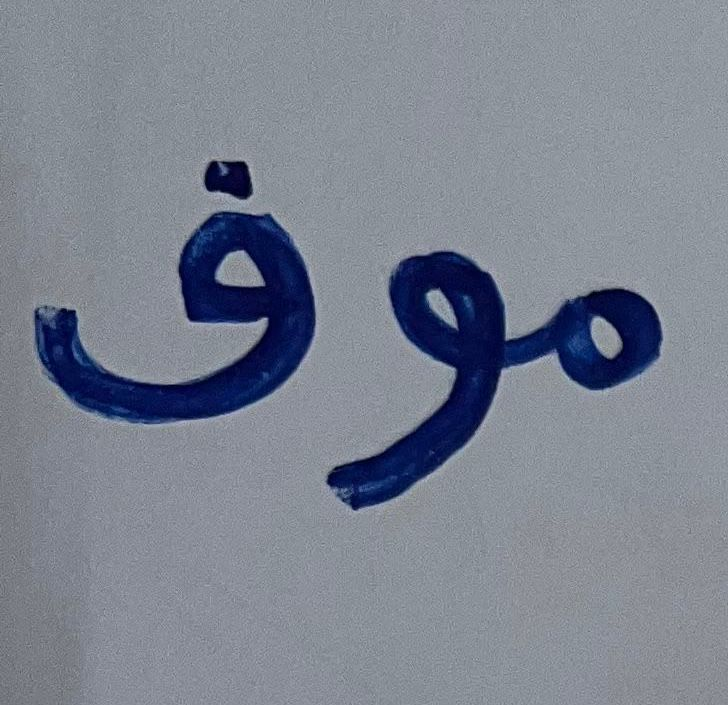meem: (537, 254, 684, 416)
qaf: (30, 124, 315, 434)
waw: (321, 236, 530, 517)
